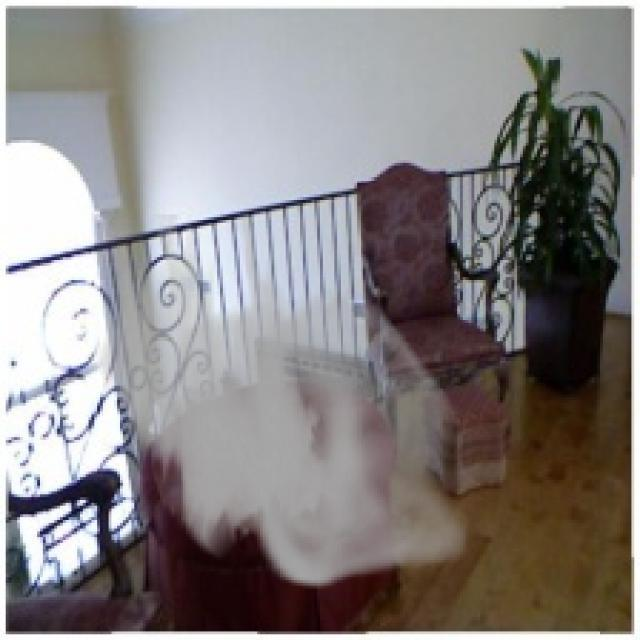Smoke: (94, 214, 469, 589)
